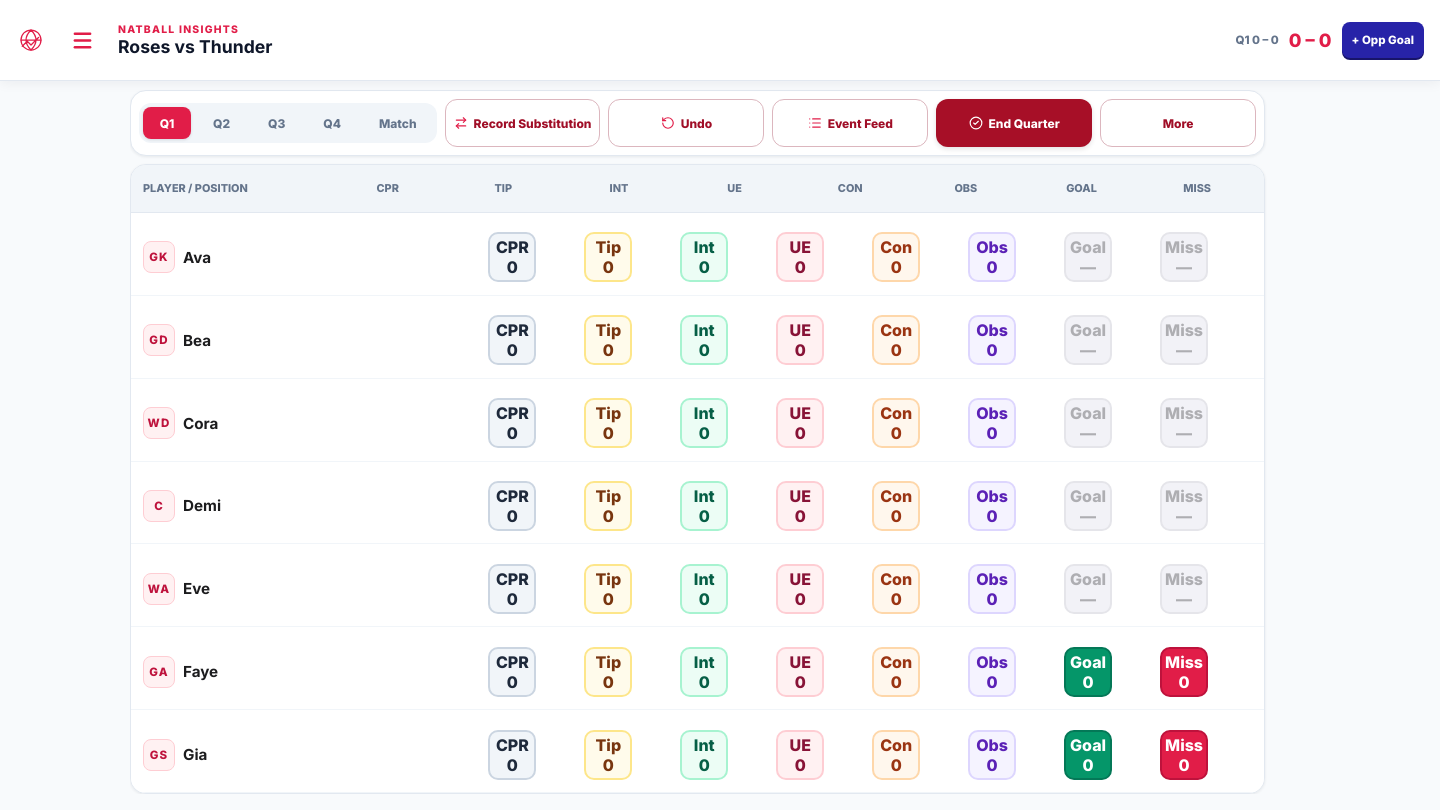
Test: Natball Insights setup › offers prototype-style Settings cards and safely abandons a live Match from Settings
This screenshot has width=1440, height=810.
Click the button named "Open coach navigation". click: (82, 40)
box: x1=58 y1=16 x2=106 y2=64
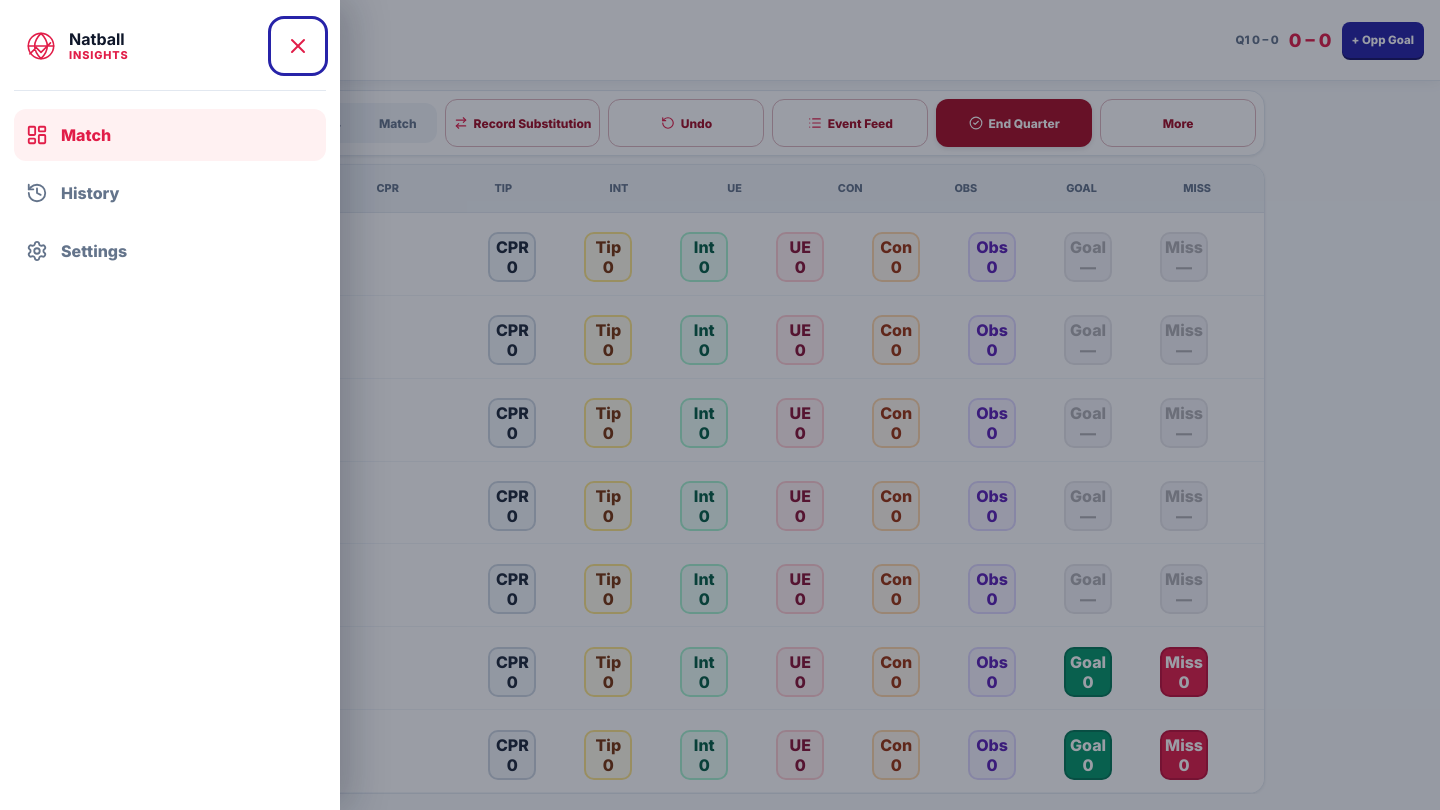
Click the button "Settings". click: (94, 251)
box: x1=14 y1=225 x2=326 y2=277
(page scrolled)
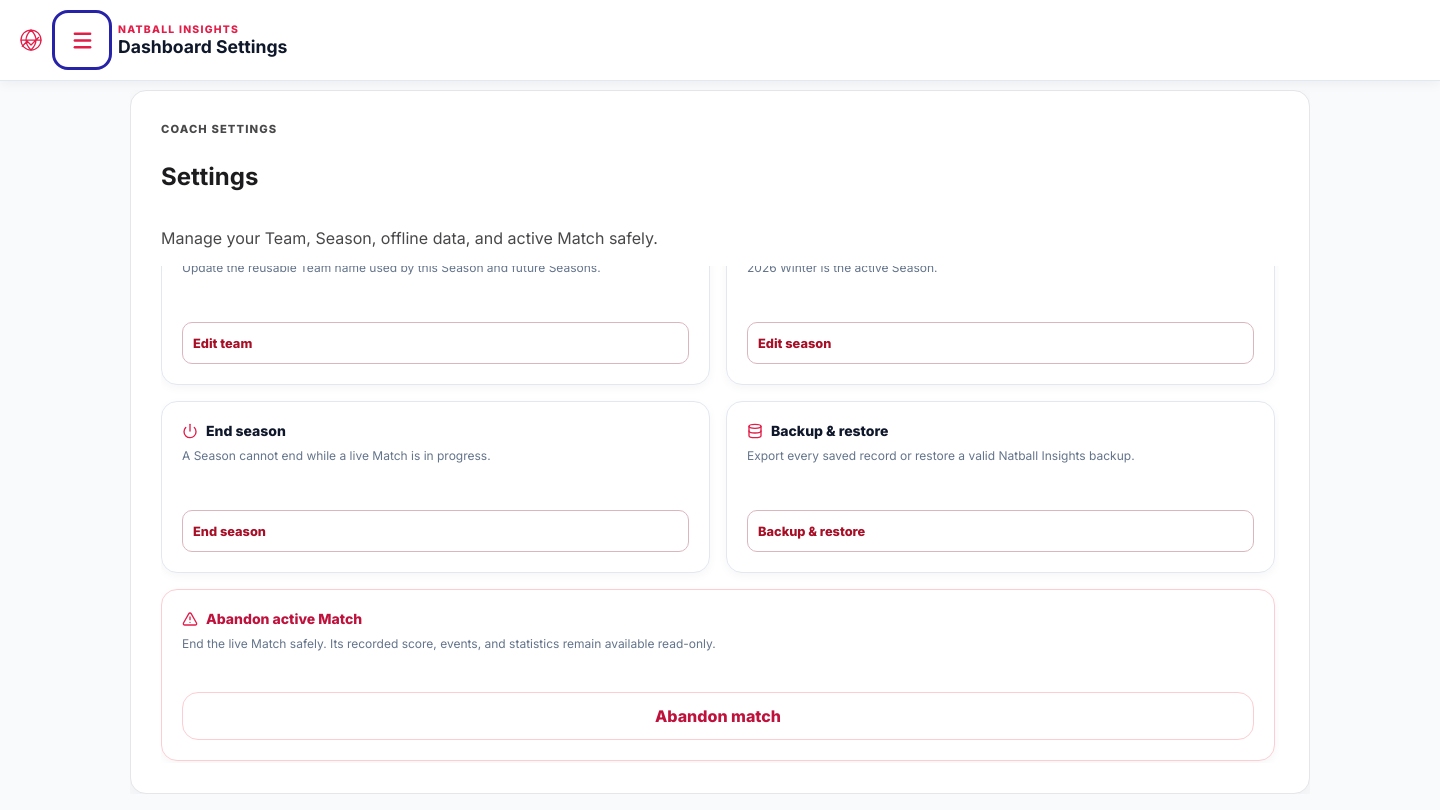
Click the button "Abandon match". click: (718, 716)
box: x1=182 y1=692 x2=1254 y2=740
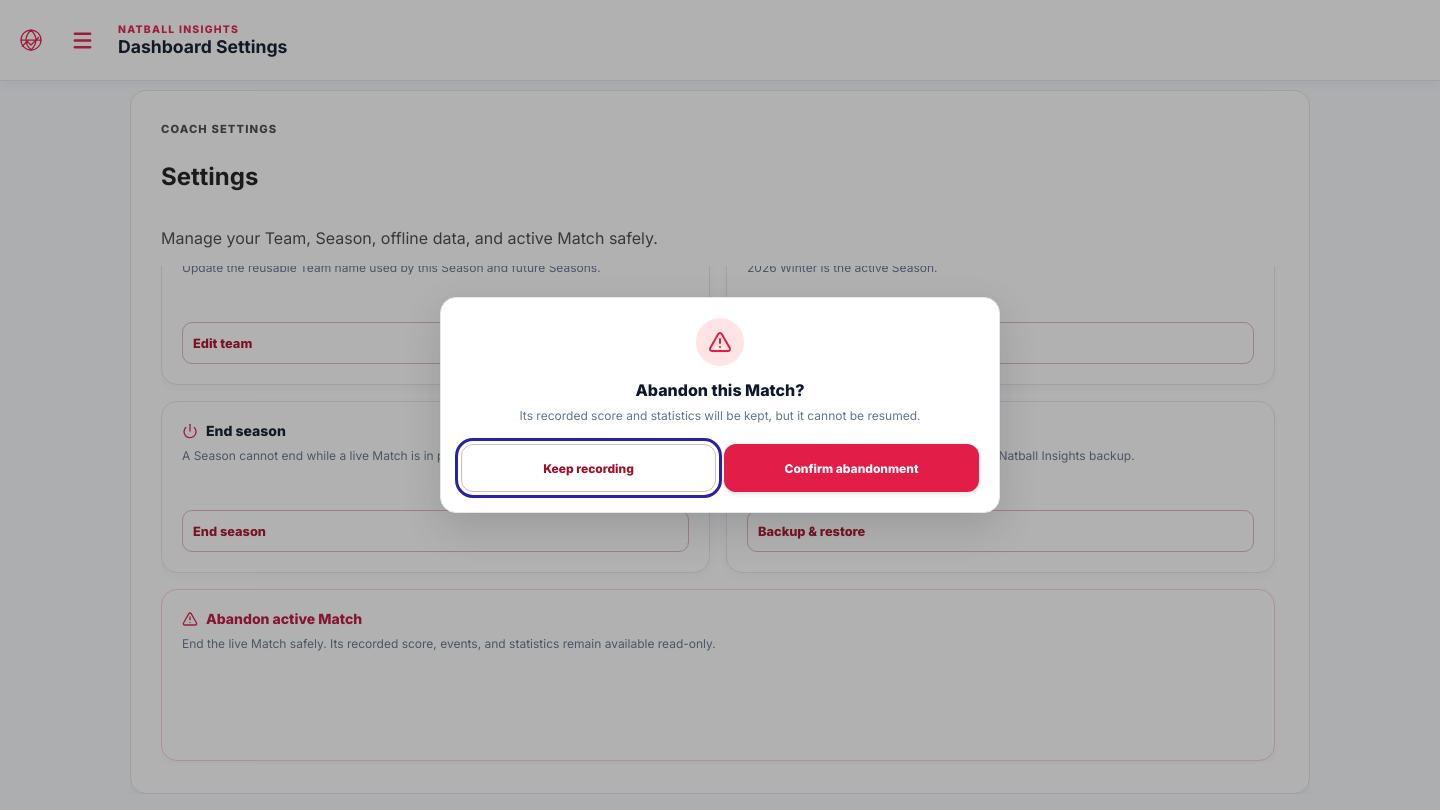
Now the dialog "Abandon this Match?" is shown
Click the button "Confirm abandonment". click: (852, 468)
box: x1=724 y1=444 x2=979 y2=492
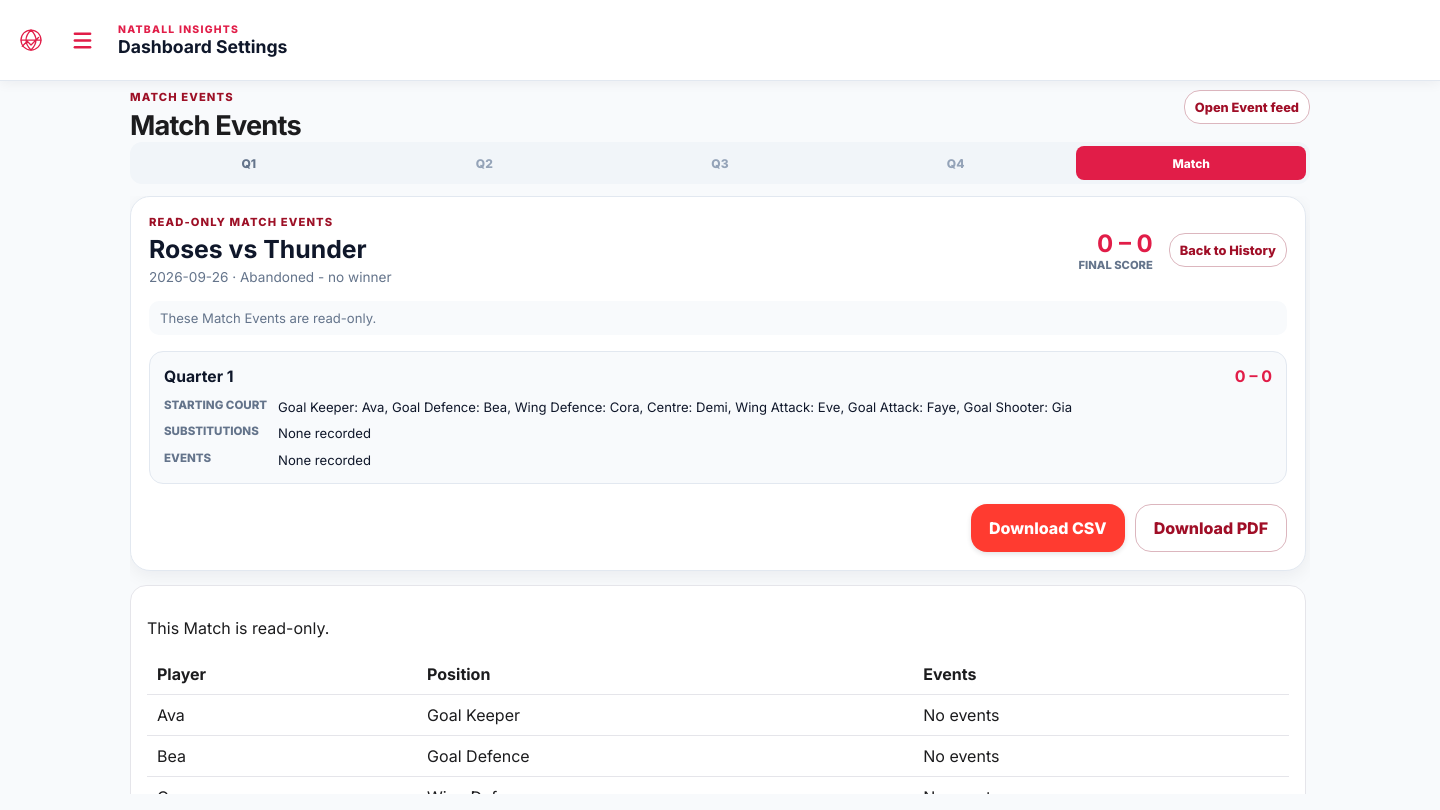
Now the text "READ-ONLY MATCH EVENTS" is shown, box x1=149 y1=215 x2=333 y2=229
